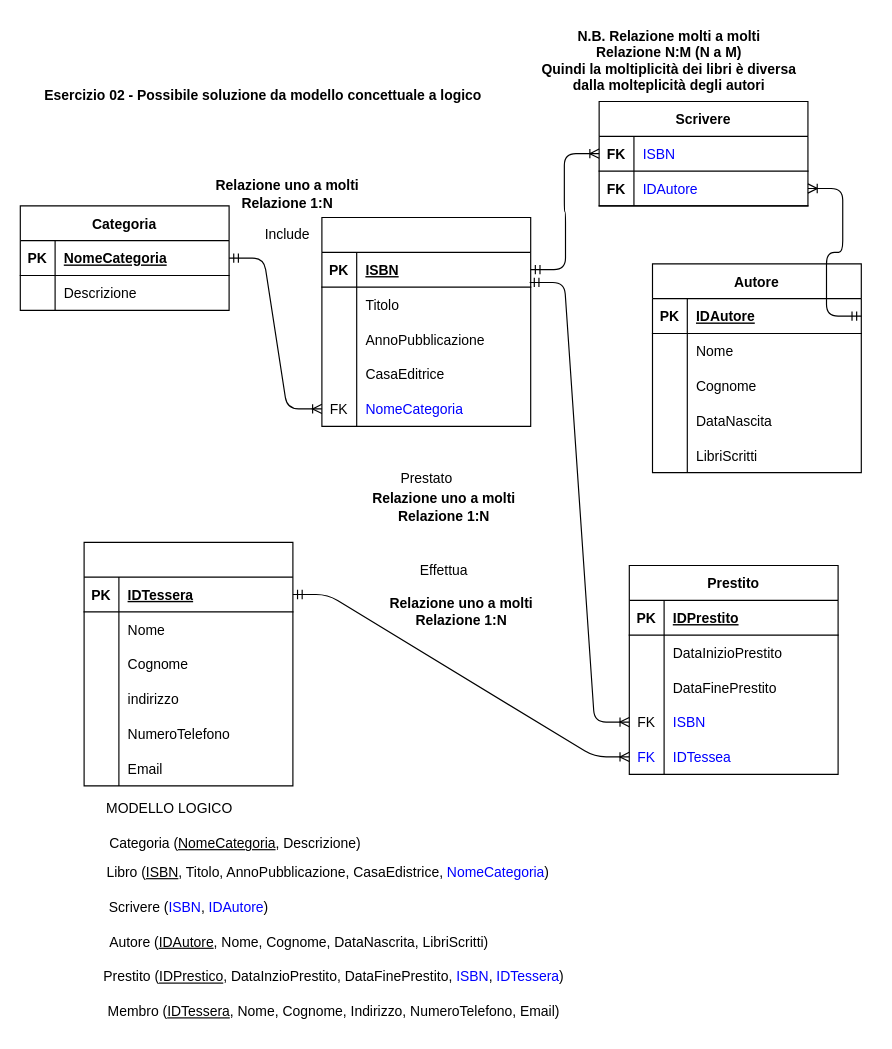
The diagram is 892 pixels wide and 1049 high, and some of its shapes have lost their labels. The shapes that lost their labels are listed below. From the top down, each one's box as (x1, y1, x2, y2) in pixels, then its label:
(321, 216, 531, 426): Libro
(83, 541, 293, 786): UtenteBiblioteca/Membro
